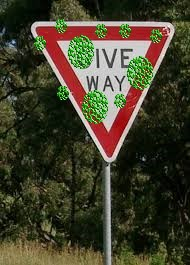giveway: (31, 20, 175, 162), (34, 23, 111, 153), (113, 23, 173, 159), (34, 22, 158, 87), (61, 72, 148, 150)
